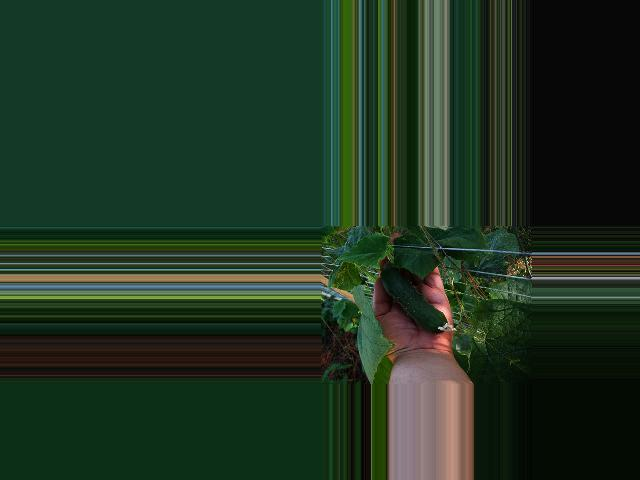cucumber: (381, 266, 457, 333)
